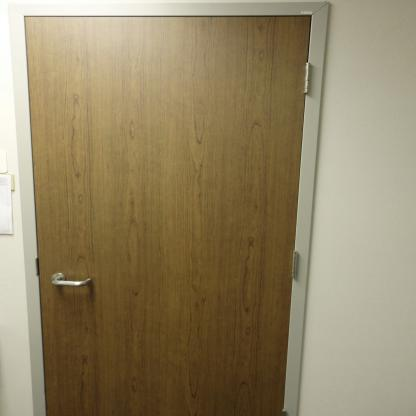door: (28, 16, 313, 415)
hinged: (290, 251, 300, 283), (304, 61, 311, 97), (279, 407, 289, 415)
lever: (48, 272, 94, 292)
